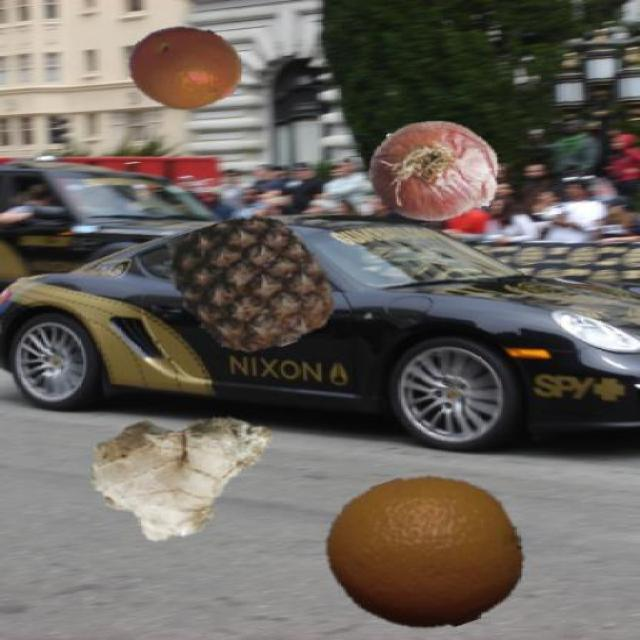Orange: (324, 476, 528, 630), (130, 25, 244, 111)
